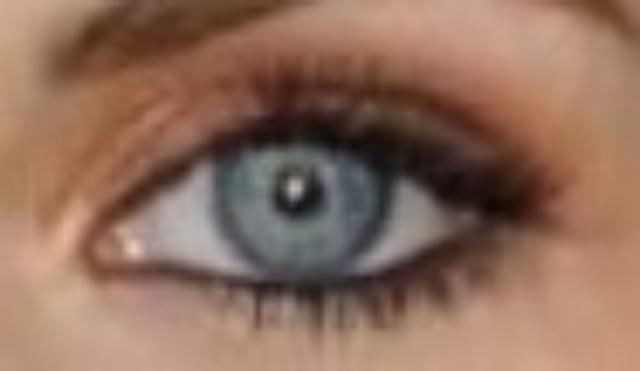eye: (216, 118, 396, 288)
